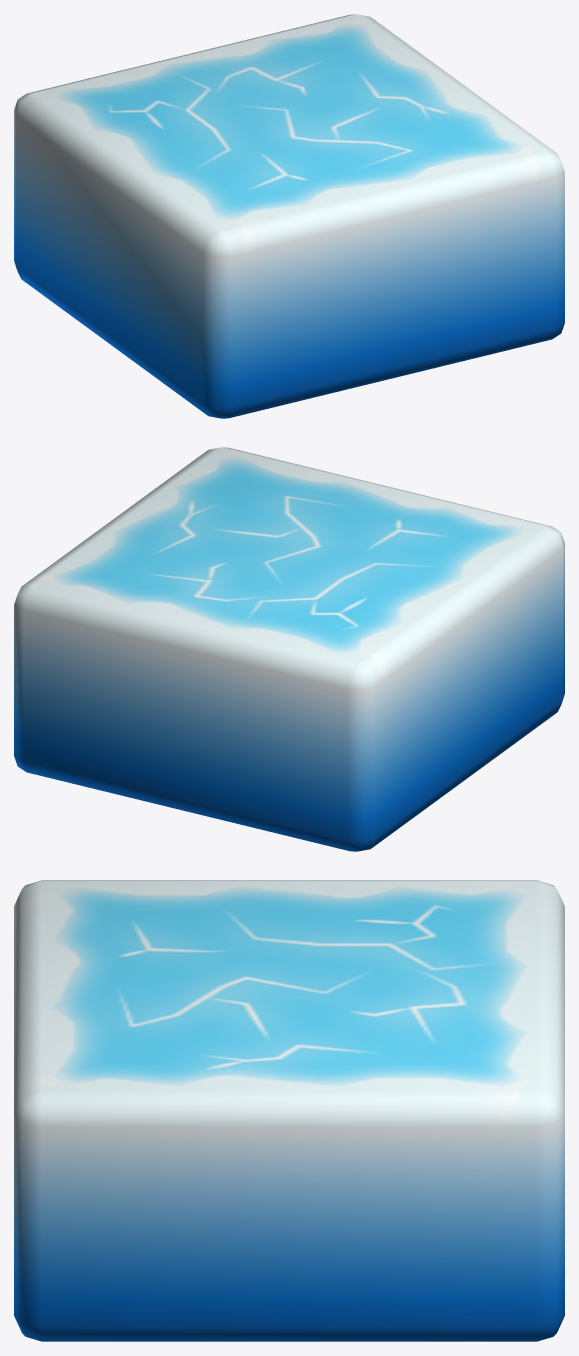
The model's file is 3D_Tile_Ice_01A.glb.
3 views of the same model, one above another, from view 1: azimuth 30°, elevation 25°; view 2: azimuth 150°, elevation 25°; view 3: azimuth 270°, elevation 25° (orthographic). The views are drawn at different scales.
Parts seen in each view (by area): view 1: 3D_Tile_Ice_01A; view 2: 3D_Tile_Ice_01A; view 3: 3D_Tile_Ice_01A.
Part boxes in pixels (x1,y1,x2,y2): 3D_Tile_Ice_01A: (14,14,564,418); 3D_Tile_Ice_01A: (14,447,564,851); 3D_Tile_Ice_01A: (14,880,564,1341).
Bounding box in the file's own units: 2 × 1 × 2.
Materials: 1 (1 with a texture image).
